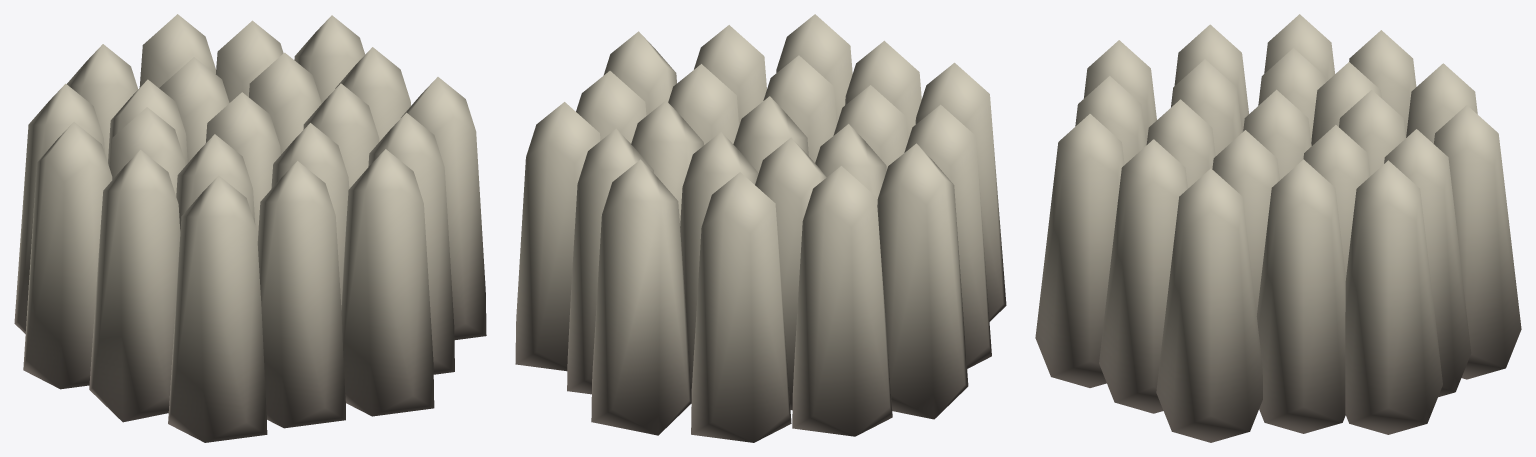
Rendered from Eggs.fbx.
3 renders of one model, left to right at view 1: azimuth 30°, elevation 25°; view 2: azimuth 150°, elevation 25°; view 3: azimuth 270°, elevation 25°, orthographic. The views are drawn at different scales.
Visible parts, largest first — view 1: Egg; view 2: Egg; view 3: Egg.
Boxes of the visible parts, bbox=[...] form: Egg: bbox=[14, 14, 486, 442]; Egg: bbox=[515, 14, 1006, 442]; Egg: bbox=[1035, 14, 1521, 442].
Size of the model in its own units: 0.4031 by 0.2477 by 0.4131.
